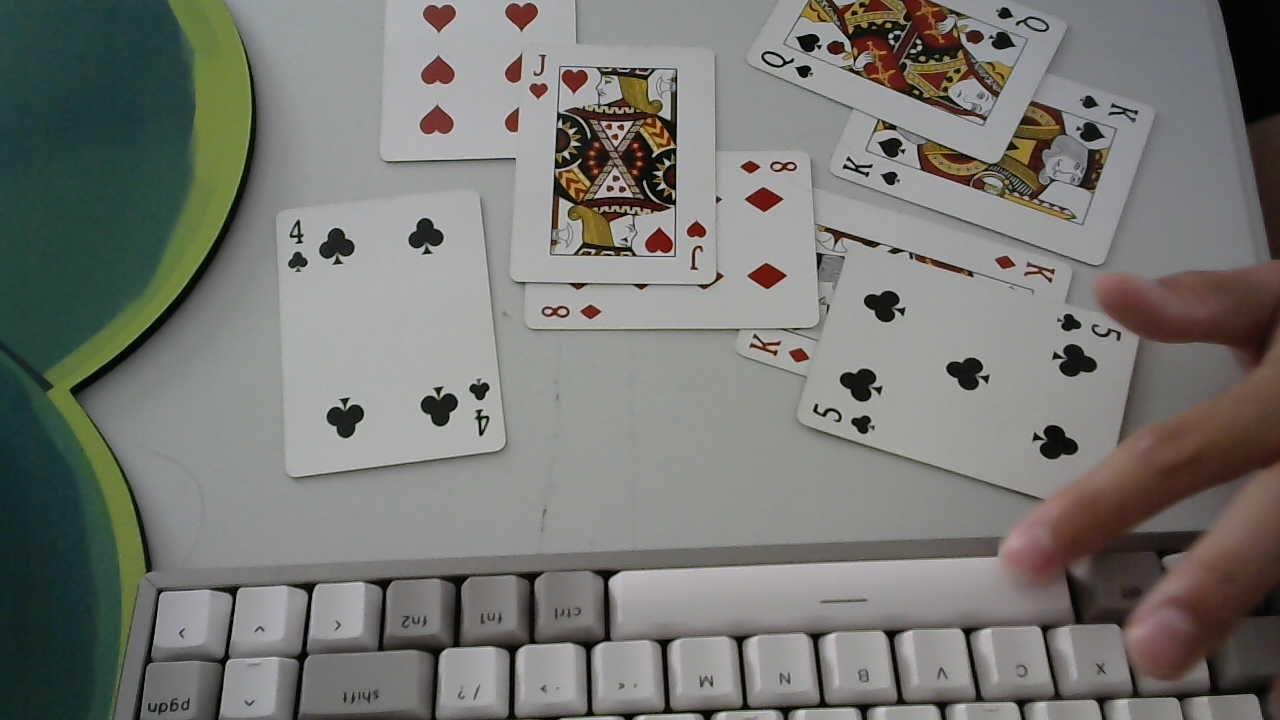4C: (463, 372, 499, 444), (280, 215, 311, 275)
5C: (1053, 306, 1126, 349), (809, 398, 881, 439)
8D: (536, 302, 606, 322), (741, 156, 807, 177)
JH: (682, 215, 713, 277), (526, 49, 555, 102)
KD: (992, 245, 1063, 292), (749, 327, 818, 368)
KS: (1073, 87, 1144, 123), (839, 155, 903, 187)
QS: (757, 49, 823, 85), (987, 2, 1061, 32)
